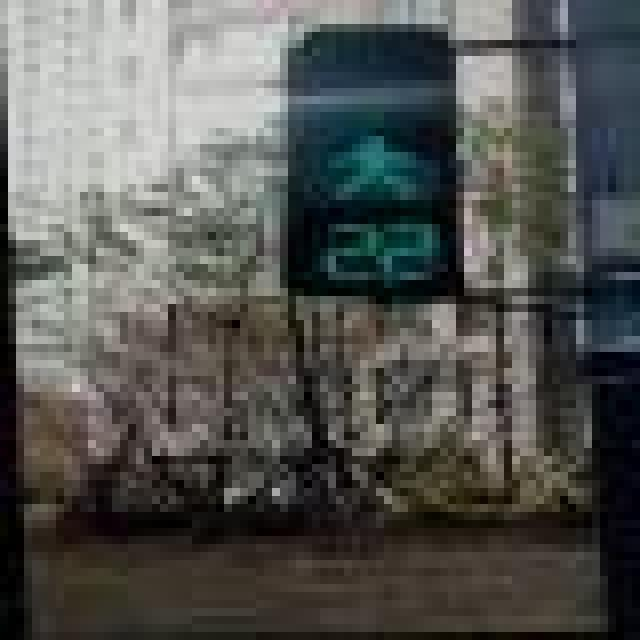greenlight: (280, 24, 448, 216)
